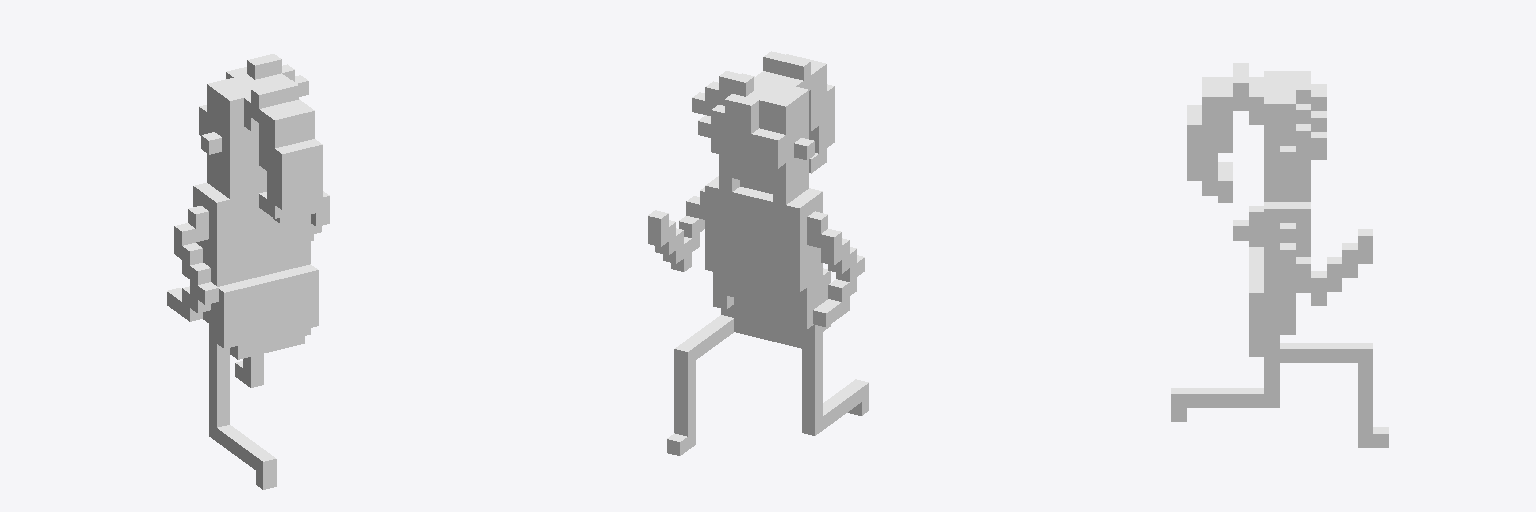
File: character_Two_Run1-03.obj
3 views of the same model, side by side, from view 1: azimuth 30°, elevation 25°; view 2: azimuth 150°, elevation 25°; view 3: azimuth 270°, elevation 25° (orthographic).
Size of the model in its own units: 11 by 26 by 14.